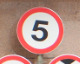speed_limit_5: (16, 7, 64, 54)
